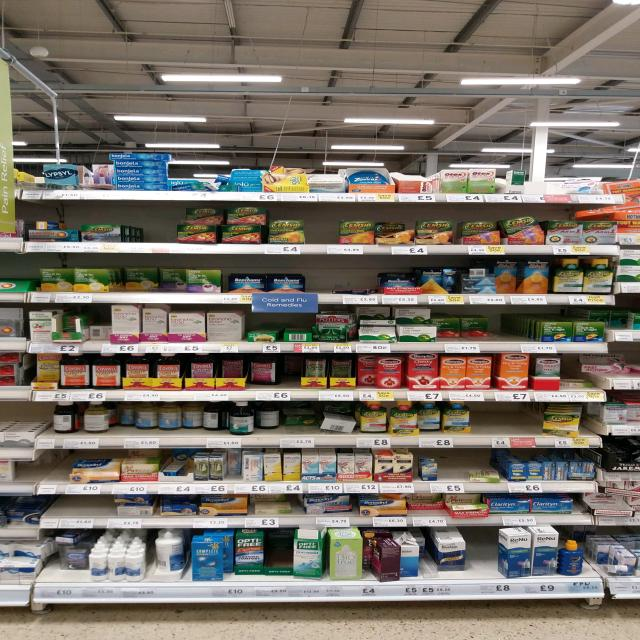unorganised: (487, 531, 589, 580), (115, 402, 228, 437), (364, 531, 436, 582), (303, 356, 407, 389), (255, 402, 359, 435), (218, 355, 279, 391), (194, 534, 235, 581), (294, 530, 329, 584), (578, 350, 639, 379), (248, 315, 314, 341), (149, 534, 185, 580), (438, 532, 470, 583), (436, 314, 493, 342), (184, 204, 267, 223), (53, 535, 88, 579), (577, 198, 639, 221), (546, 405, 587, 439), (126, 270, 187, 292), (358, 305, 397, 338), (318, 312, 354, 345), (49, 400, 79, 437), (303, 496, 356, 516), (82, 400, 109, 438), (525, 258, 549, 296), (249, 495, 294, 514), (495, 259, 520, 293), (86, 312, 112, 343), (39, 269, 74, 292), (405, 495, 445, 515), (163, 452, 193, 478), (420, 404, 445, 435), (496, 168, 527, 193), (307, 174, 347, 193), (36, 354, 60, 384), (82, 165, 113, 188), (57, 311, 80, 341), (201, 172, 235, 192), (5, 508, 37, 529), (387, 274, 422, 293), (563, 369, 594, 390), (599, 311, 631, 328), (115, 494, 152, 508), (397, 307, 431, 322), (226, 450, 242, 481), (447, 496, 483, 509), (629, 403, 640, 426)
